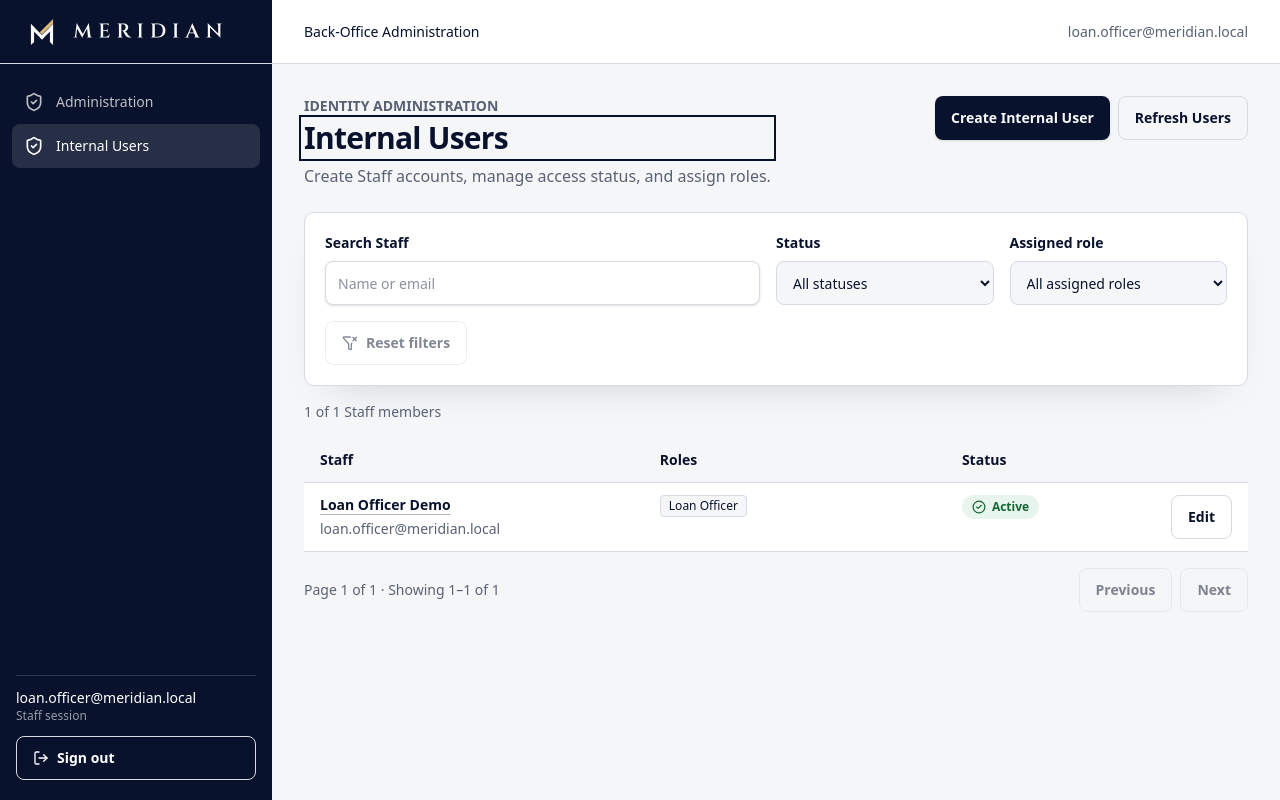
Scenario: Internal User administration page › assigns and removes one role only after backend confirmation
Click the button with aria-label "Manage Loan Officer Demo" at (385, 505), box [320, 495, 451, 515]
(page scrolled)
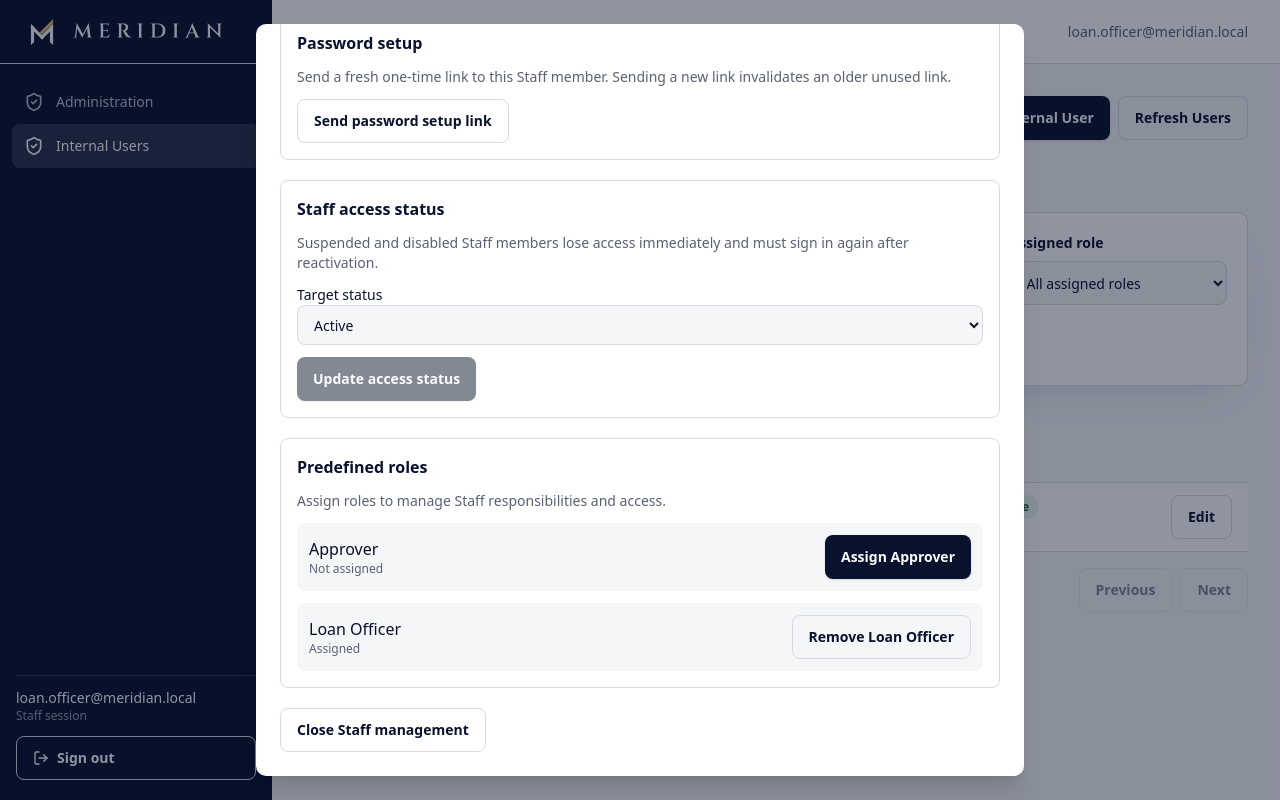
Click the button "Assign Approver" at (898, 557), box [825, 535, 971, 579]
(page scrolled)
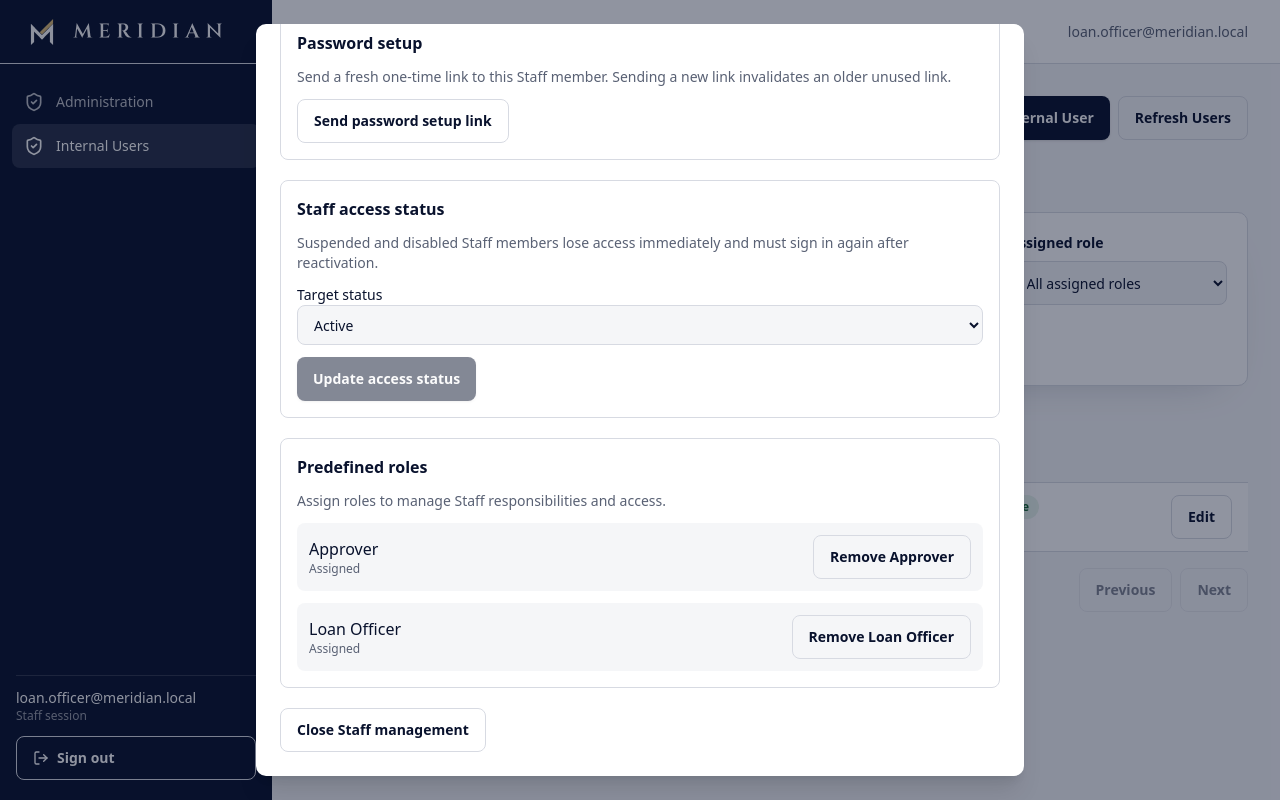
Check: the button "Remove Approver" is shown
Click the button "Remove Approver" at (892, 557), box [813, 535, 971, 579]
(page scrolled)
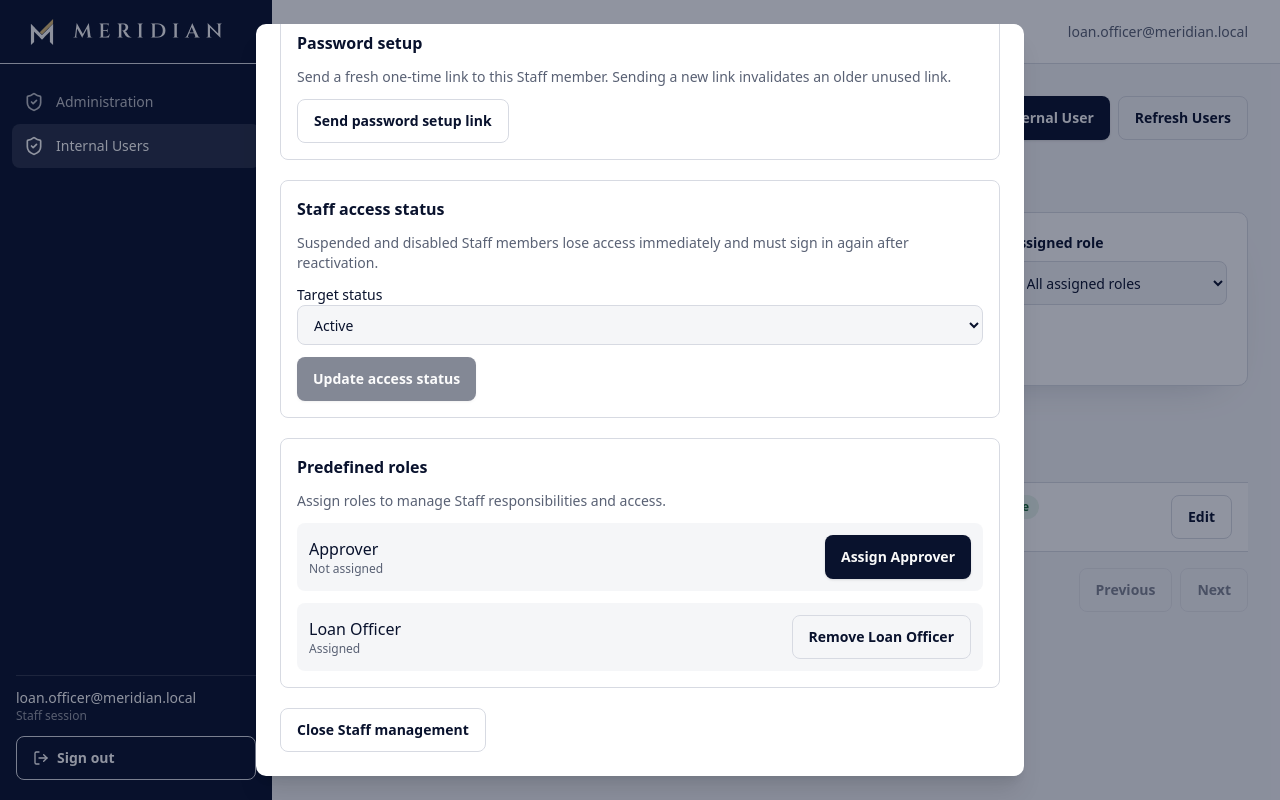
Check: the button "Assign Approver" is shown, box [825, 535, 971, 579]
